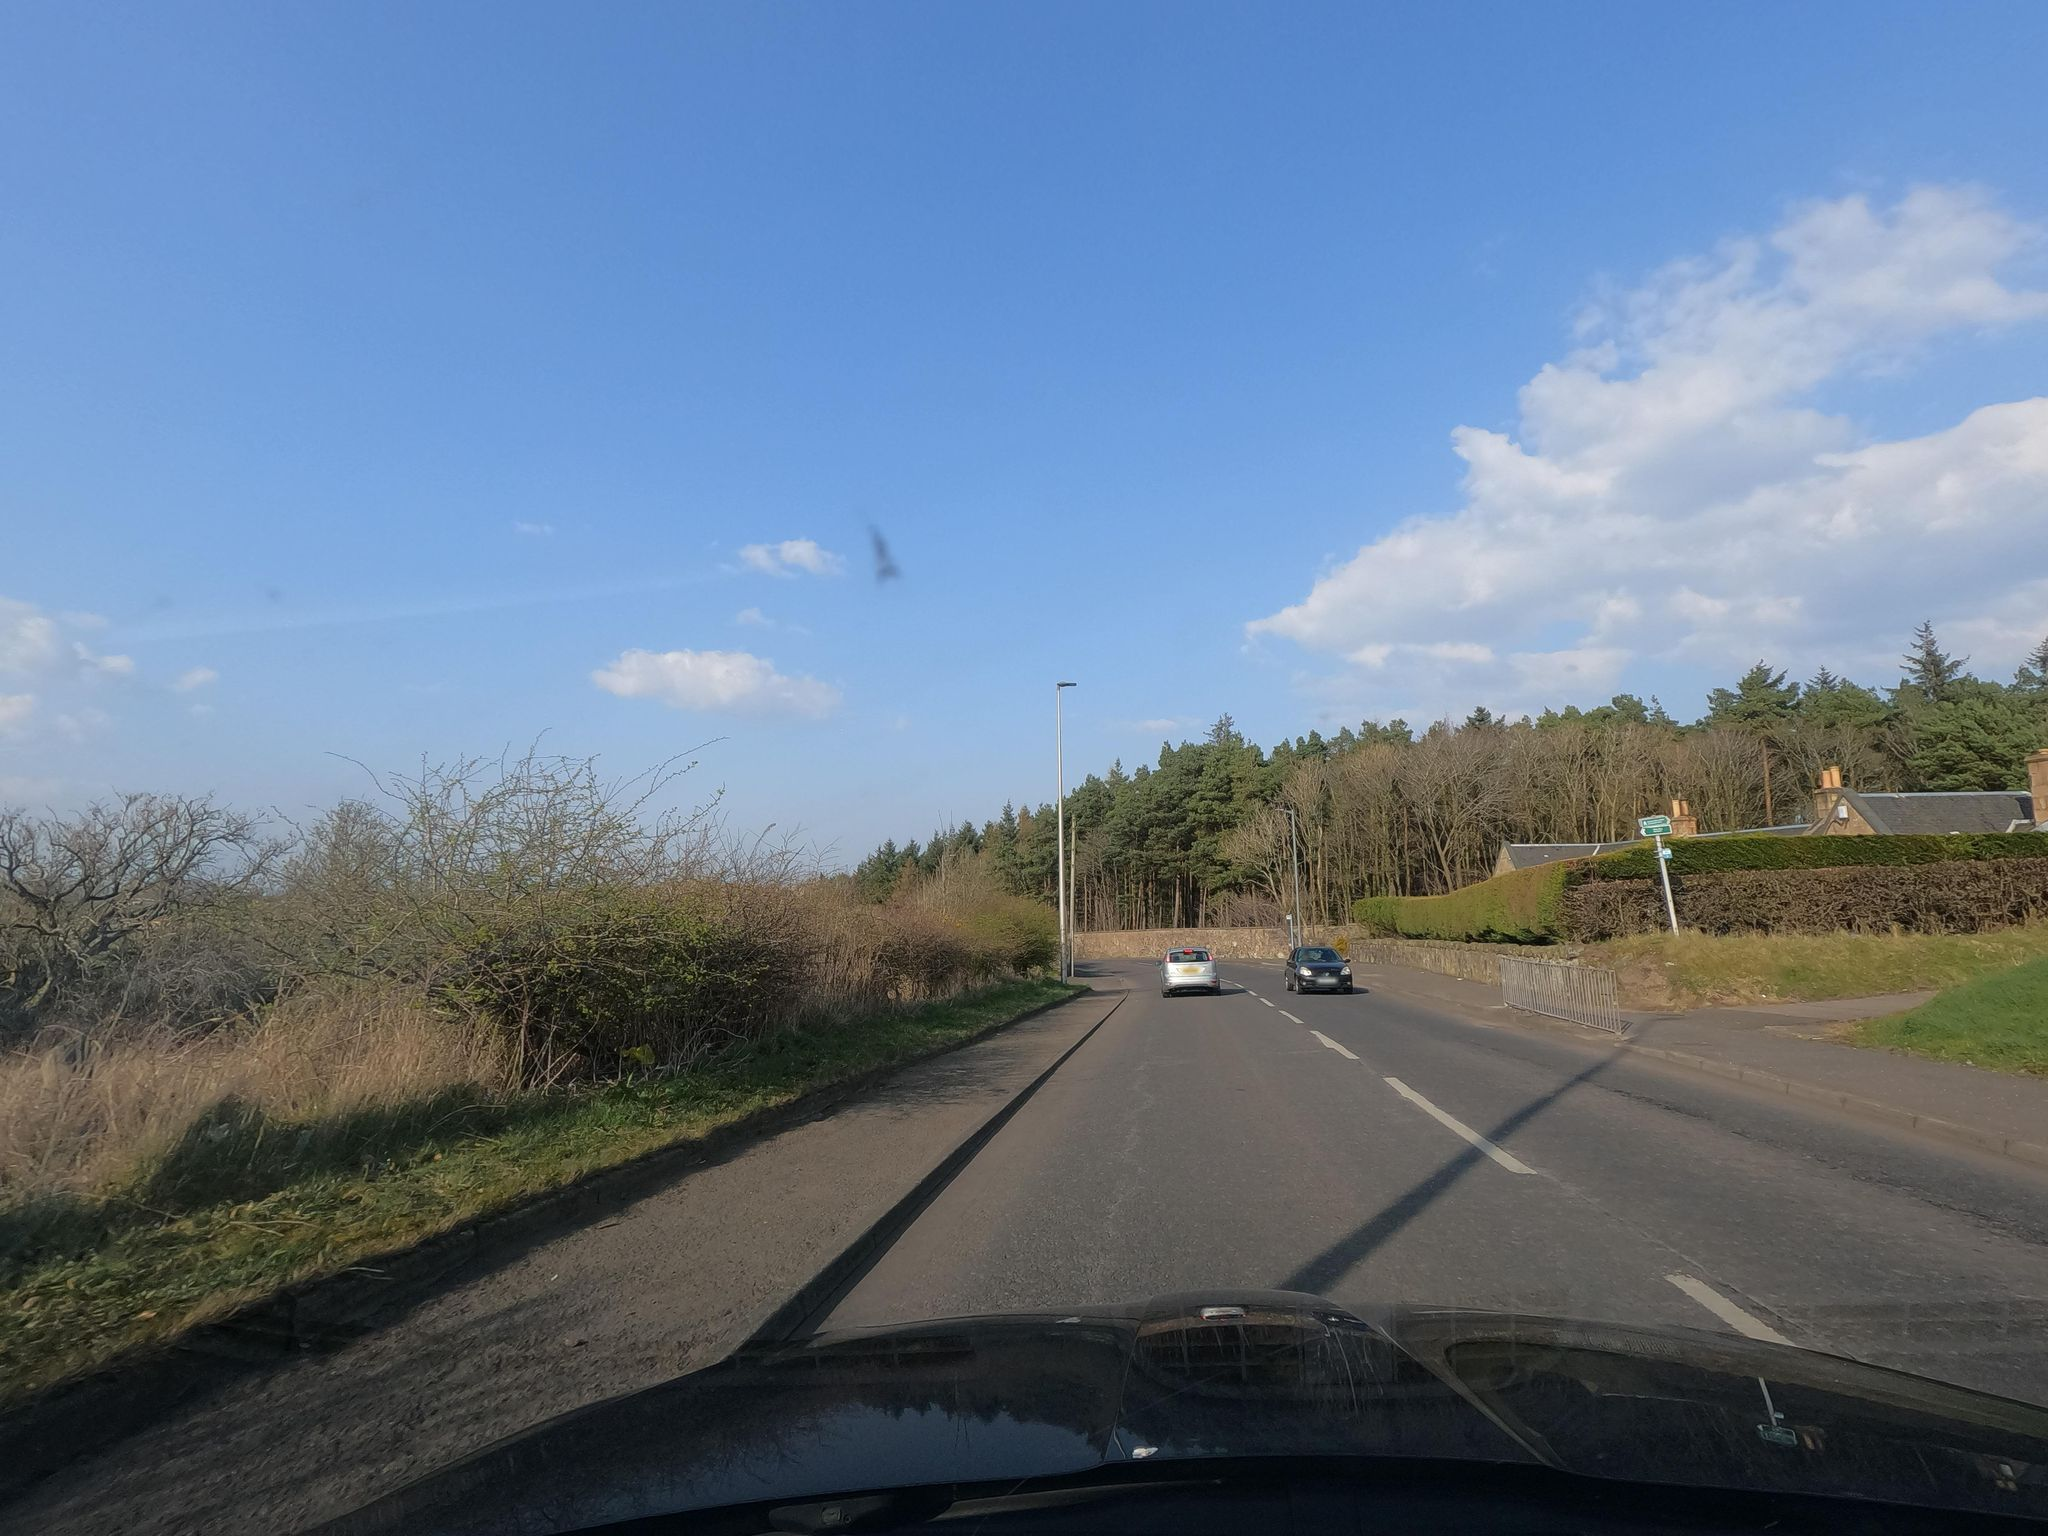car: (1156, 945, 1221, 999), (1284, 945, 1353, 992)
